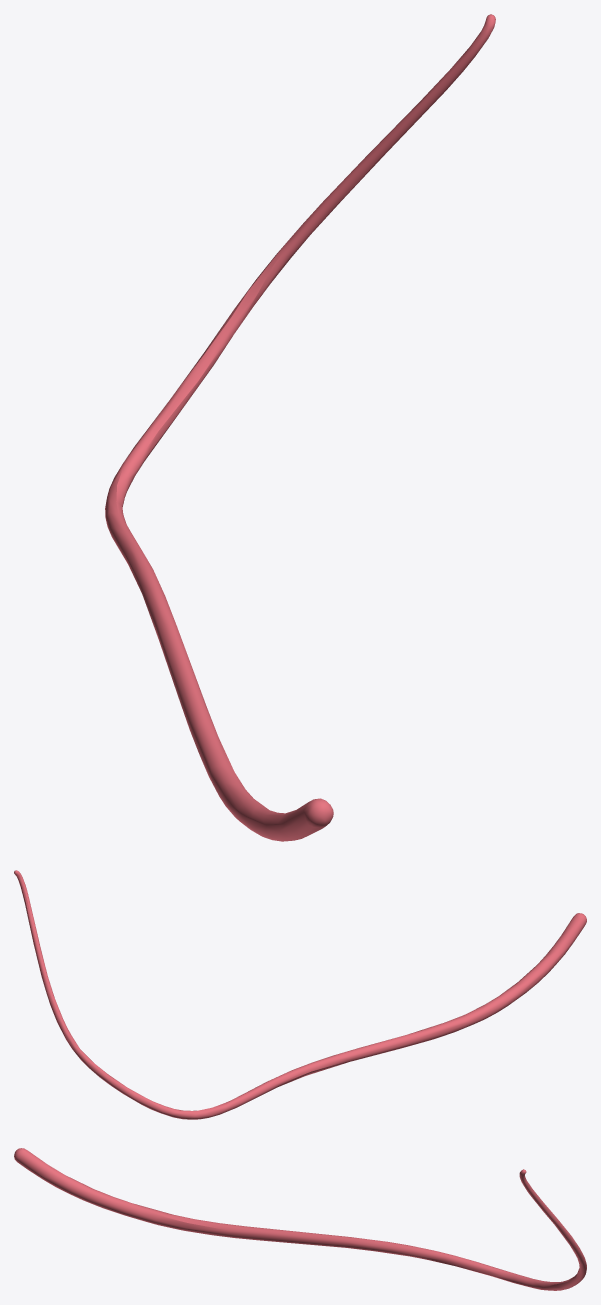
Rendered from fma44919_fj2189.glb.
The picture shows the model from 3 angles, top to bottom: view 1: azimuth 30°, elevation 25°; view 2: azimuth 150°, elevation 25°; view 3: azimuth 270°, elevation 25°; orthographic projection. The views are drawn at different scales.
Parts seen in each view (by area): view 1: FMA44919_FJ2189; view 2: FMA44919_FJ2189; view 3: FMA44919_FJ2189.
Part boxes in pixels (bbox=[...]): FMA44919_FJ2189: bbox=[105, 14, 495, 841]; FMA44919_FJ2189: bbox=[14, 870, 586, 1119]; FMA44919_FJ2189: bbox=[14, 1148, 586, 1290].
Bounding box in the file's own units: 0.0445 × 0.0258 × 0.0631.
